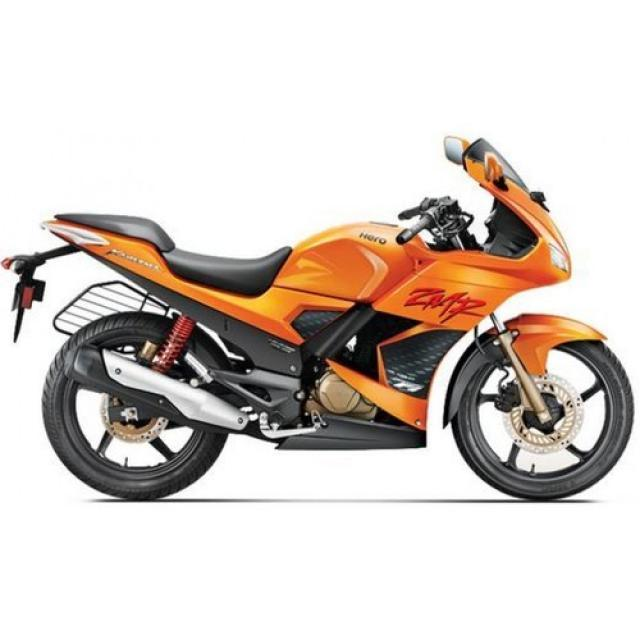MOTORCYCLE: (13, 163, 634, 499)
